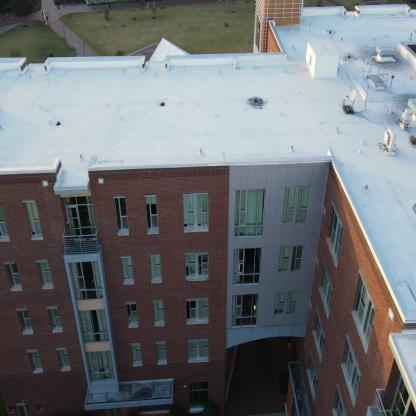Wolf Ridge: (2, 24, 415, 398)
